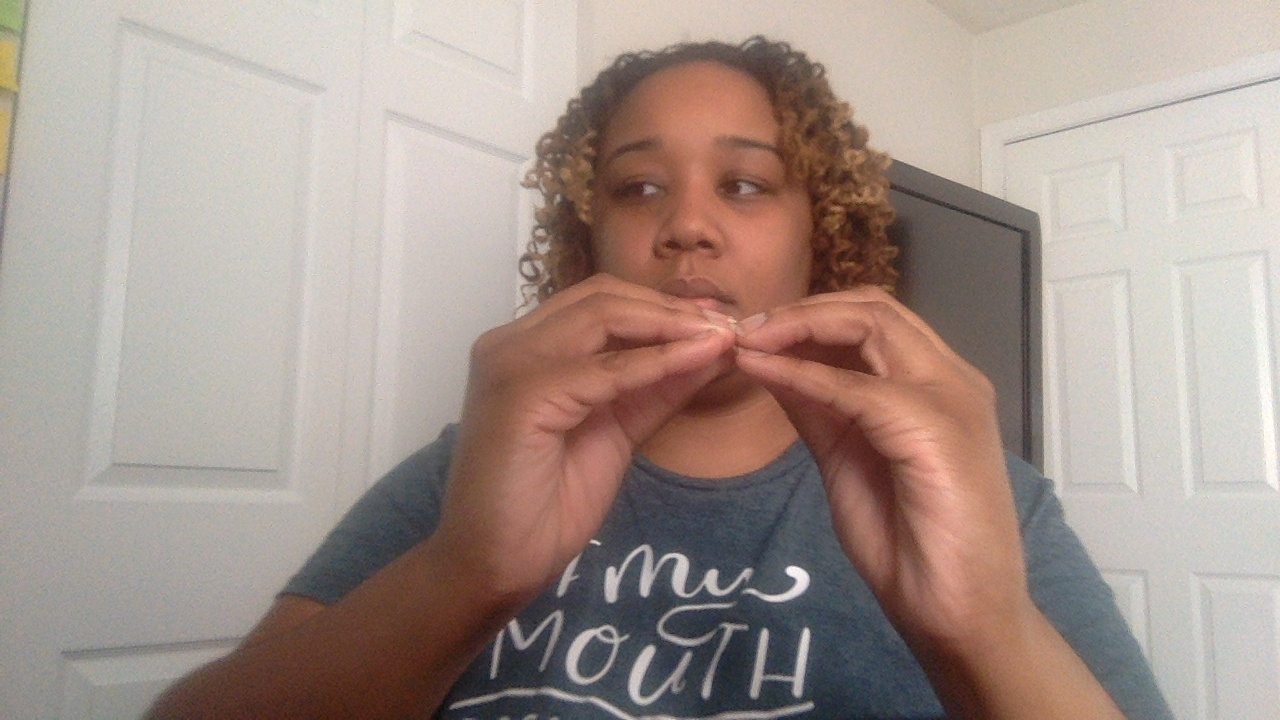more: (455, 273, 1060, 614)
